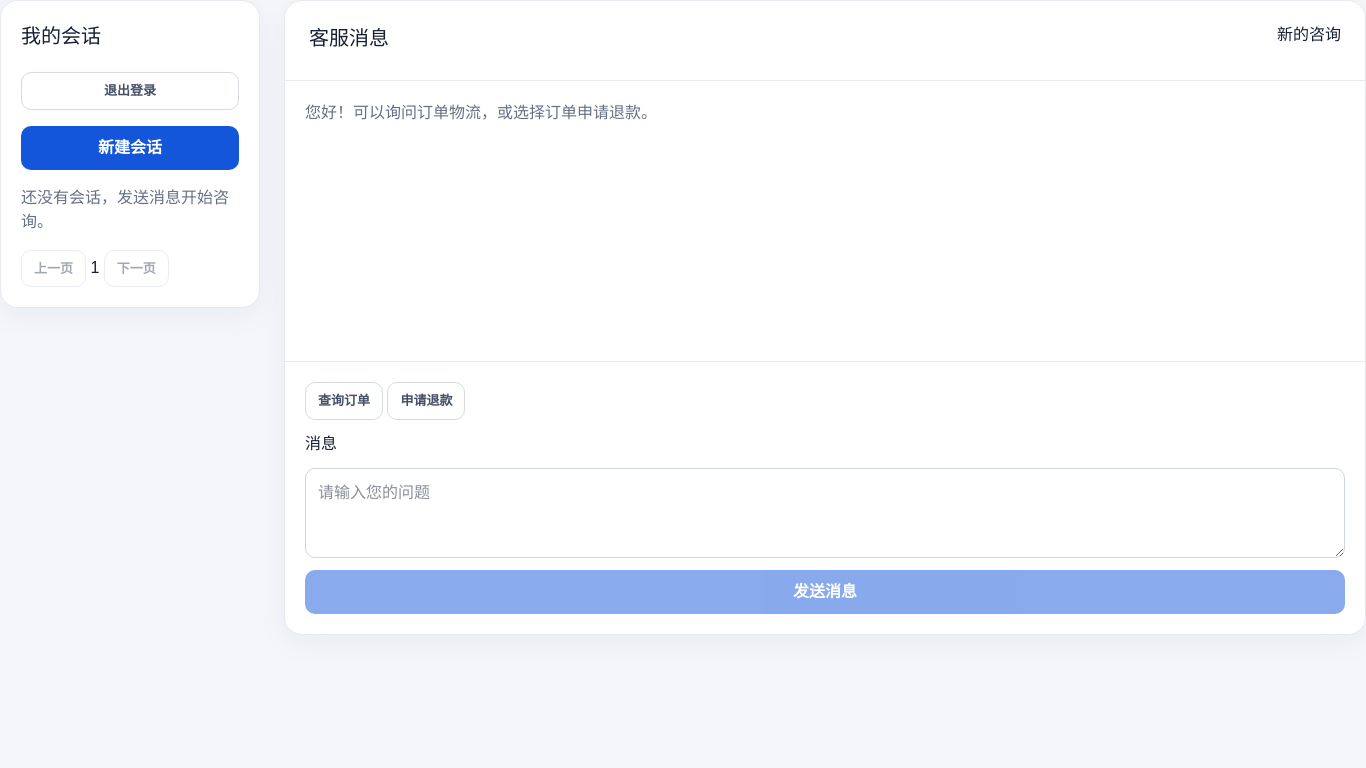
Scenario: retains the draft on failure and lets the customer reload after a session error
Type "查询订单" into the text box labelled "消息" at point(825, 512), box [305,468,1345,558]
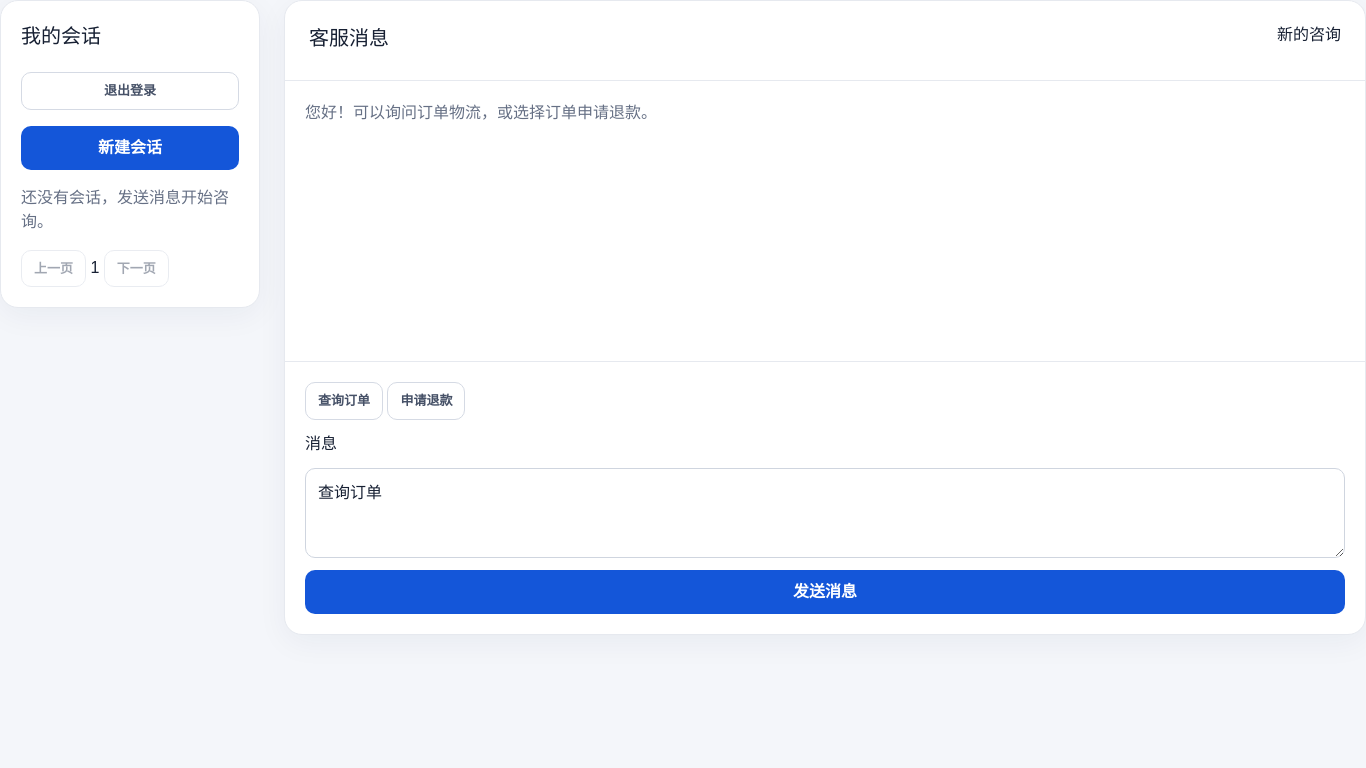
Click the button "发送消息" at point(825, 592), box [305,570,1345,614]
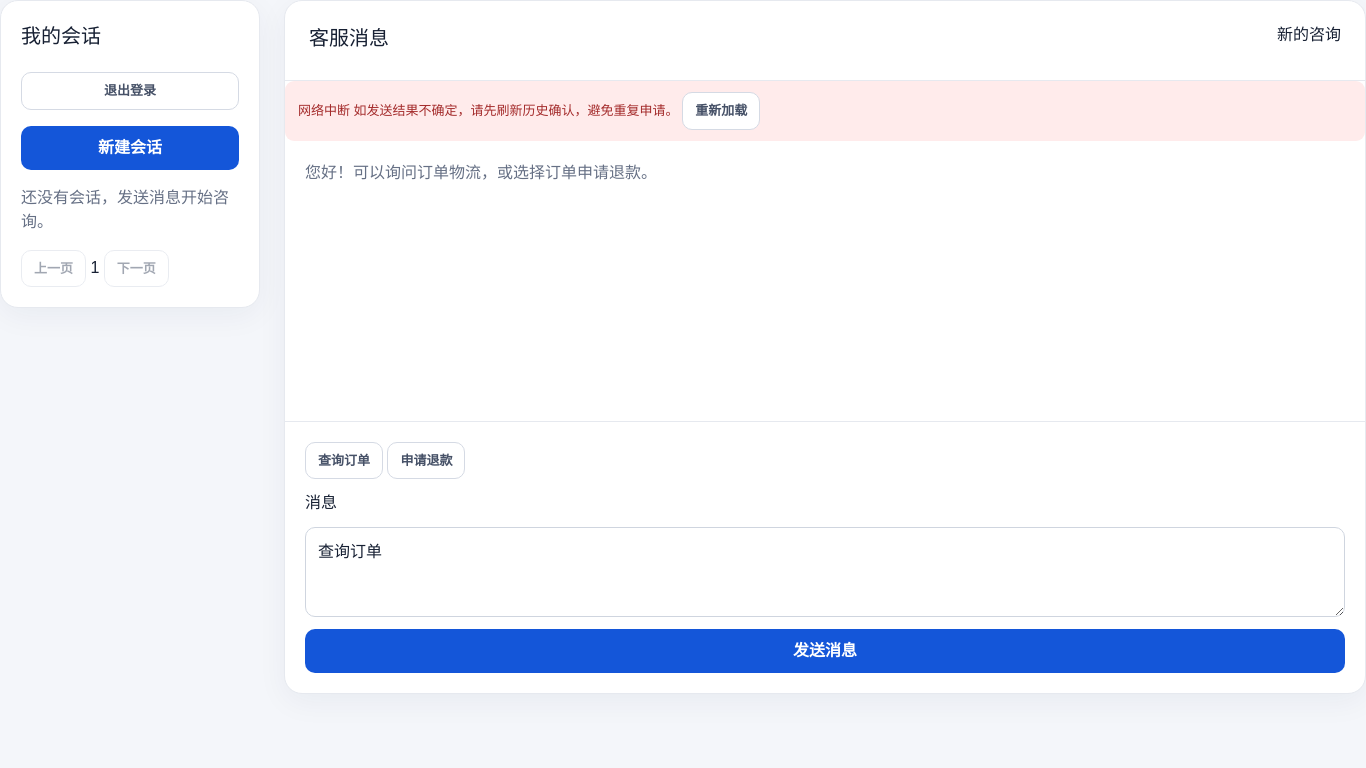
Check: the message "网络中断 如发送结果不确定，请先刷新历史确认，避免重复申请。 重新加载" is shown, box [285,81,1365,140]
